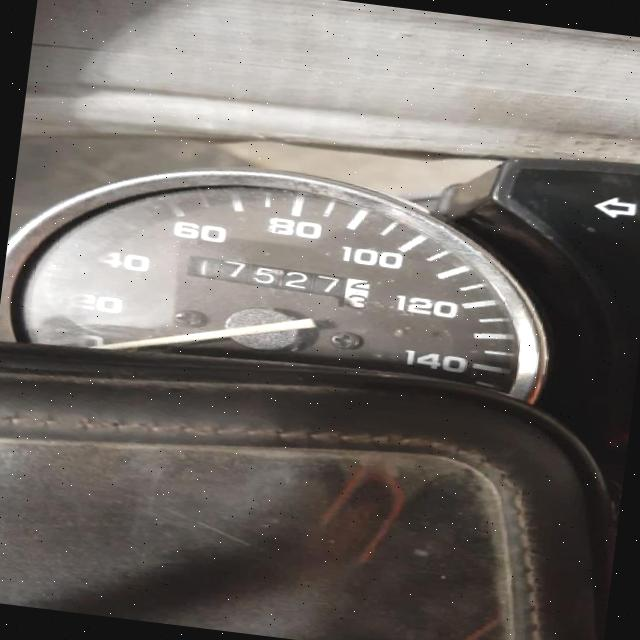odometer: (181, 252, 374, 312)
